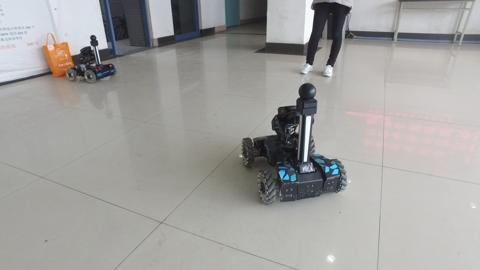bag: (38, 31, 74, 76)
chariot: (239, 81, 349, 206), (64, 33, 118, 84)
